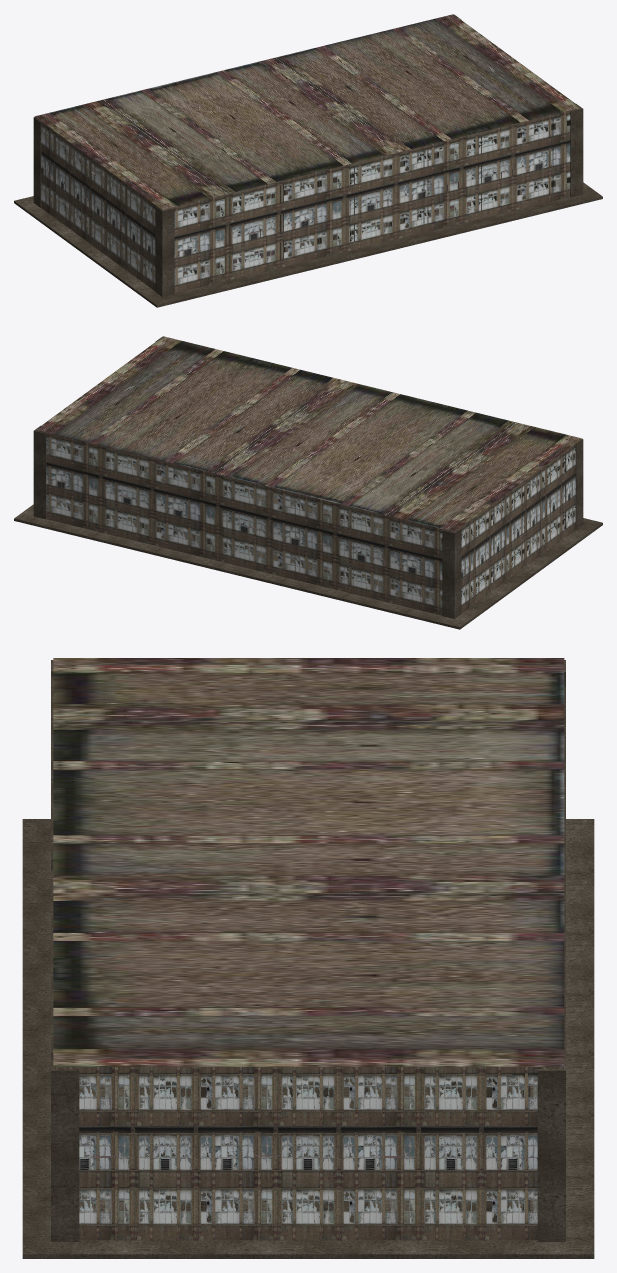
Rendered from BagSS08base_300.fbx.
3 renders of one model, top to bottom at view 1: azimuth 30°, elevation 25°; view 2: azimuth 150°, elevation 25°; view 3: azimuth 270°, elevation 25°, orthographic. The views are drawn at different scales.
Parts seen in each view (by area): view 1: BaseBox300, Basefloor300, baseDoorMetal300; view 2: BaseBox300, Basefloor300; view 3: BaseBox300, Basefloor300.
Boxes of the visible parts, x1,y1,x2,y2 form: BaseBox300: (34,14,580,293); Basefloor300: (14,14,602,307); baseDoorMetal300: (43,164,512,269); BaseBox300: (35,336,582,615); Basefloor300: (14,336,602,629); BaseBox300: (53,658,564,1240); Basefloor300: (22,660,594,1258).
Bounding box in the file's own units: 64.54 × 12.31 × 35.84.
